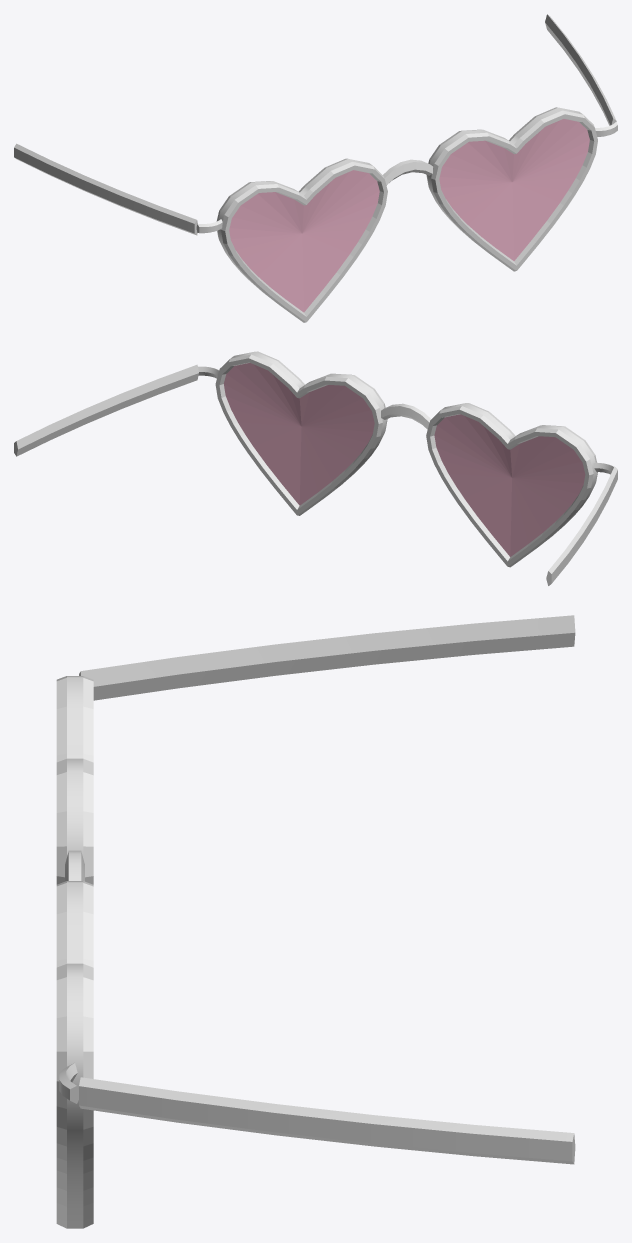
File: m_brille.fbx
3 renders of one model, top to bottom at view 1: azimuth 30°, elevation 25°; view 2: azimuth 150°, elevation 25°; view 3: azimuth 270°, elevation 25°, orthographic. The views are drawn at different scales.
Parts seen in each view (by area): view 1: Line001; view 2: Line001; view 3: Line001.
Part boxes in pixels (x1=…): Line001: x1=14, y1=14, x2=617, y2=322; Line001: x1=14, y1=351, x2=617, y2=585; Line001: x1=56, y1=615, x2=575, y2=1228.
Bounding box in the file's own units: 63.31 × 16.84 × 26.51.
